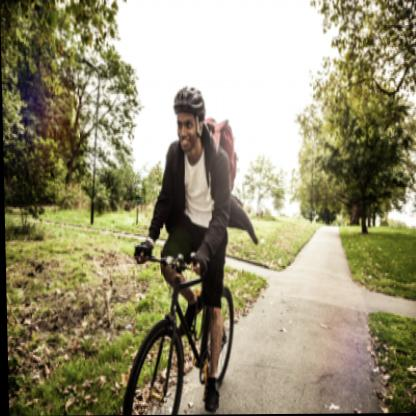With Helmet: (171, 80, 207, 158)
